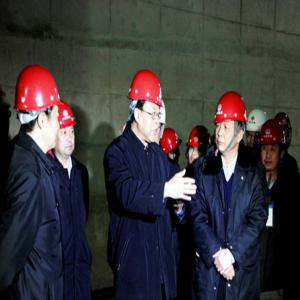red: (17, 66, 60, 153), (129, 71, 162, 145), (215, 92, 246, 155), (261, 120, 285, 172), (57, 98, 77, 159), (187, 123, 212, 166), (162, 127, 181, 166)
white: (246, 109, 267, 147)
